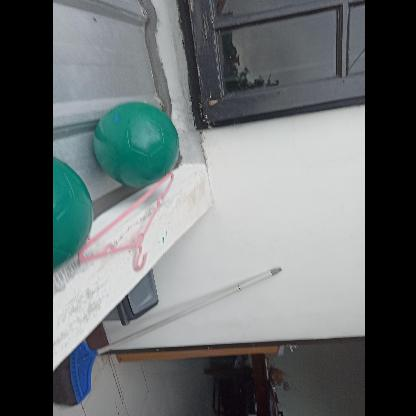green_ball: (92, 101, 180, 188)
